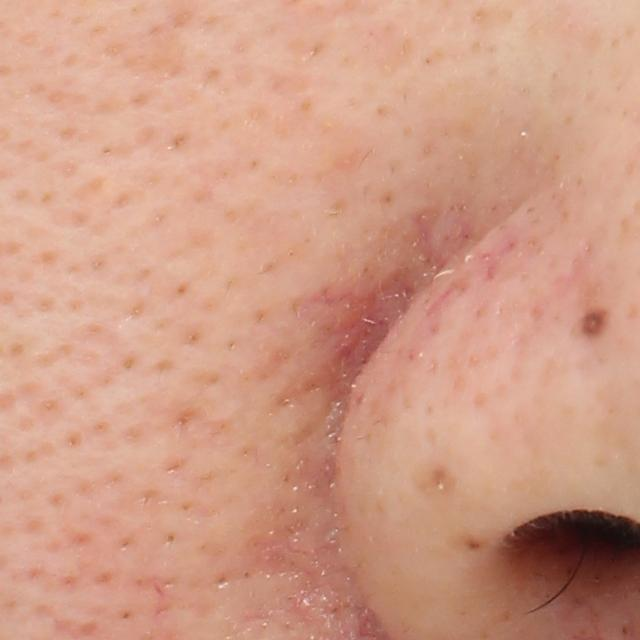nevus: (569, 296, 614, 345)
